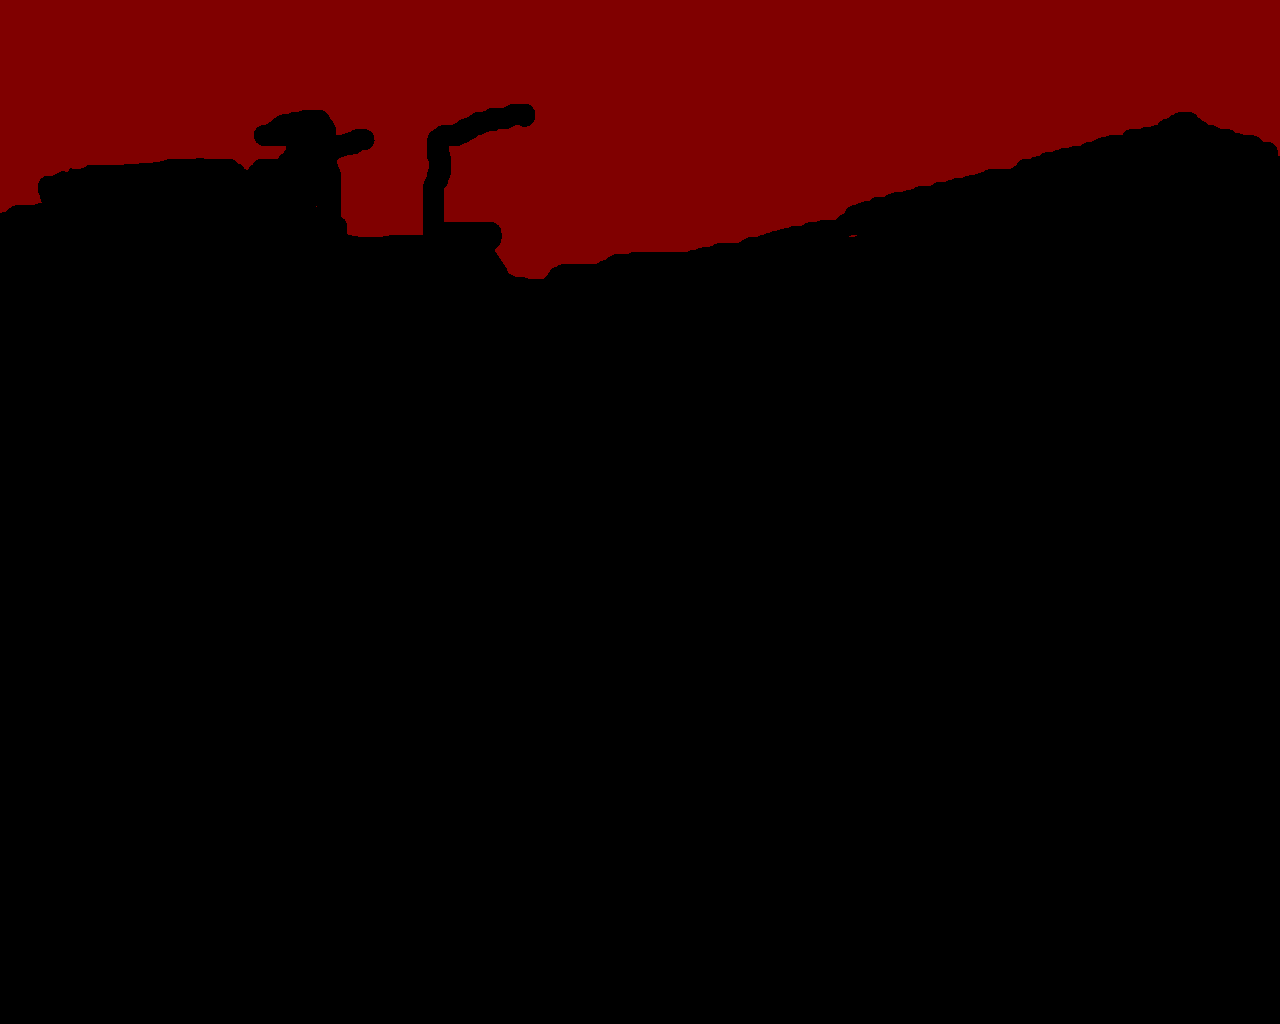Sky: (1, 1, 1279, 279)
